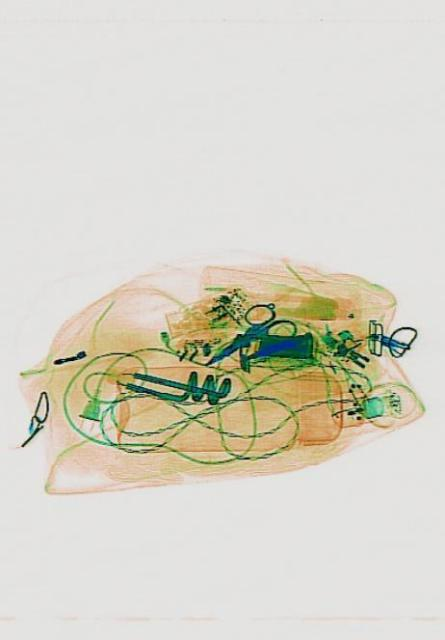Scissors: (195, 286, 296, 386)
